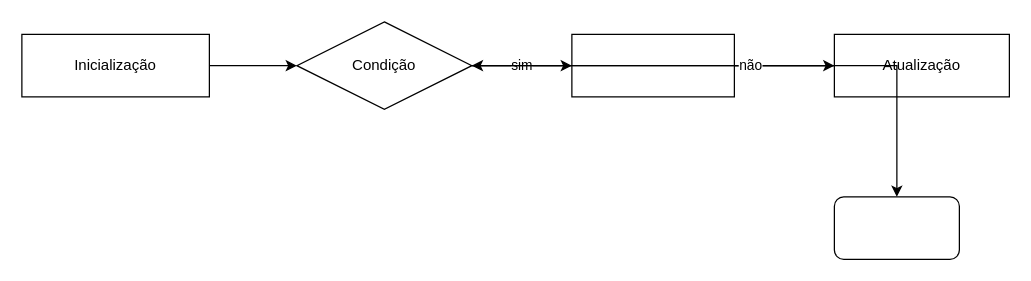
Image size: 1031x281. Some labels were removed from this diagram. The shapes that lost their labels are listed below. From the top down, each one's centre as x and y in pixels, then its label:
At [652,65]: "Corpo".
At [896,227]: "Fim".
